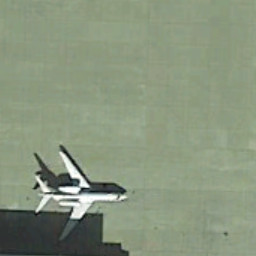Airplane: (26, 137, 144, 241)
